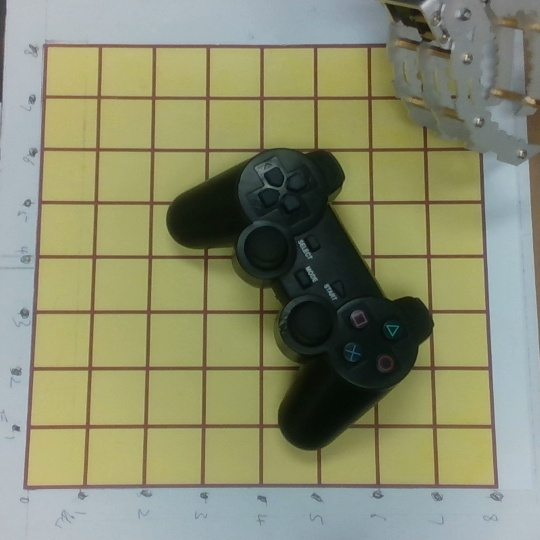remote: (164, 148, 436, 452)
